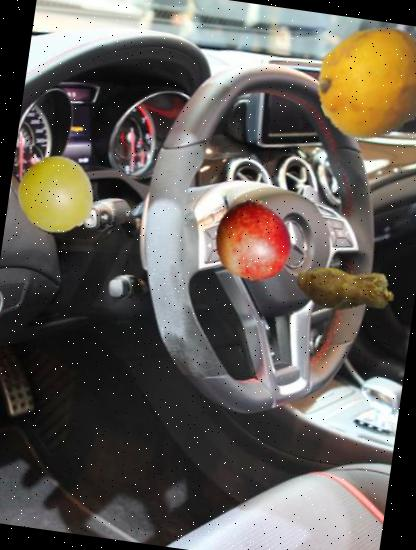Ginger: (288, 232, 402, 347)
Grape: (13, 153, 100, 239)
Lemon: (308, 14, 416, 152)
Nectarine: (208, 196, 298, 286)
